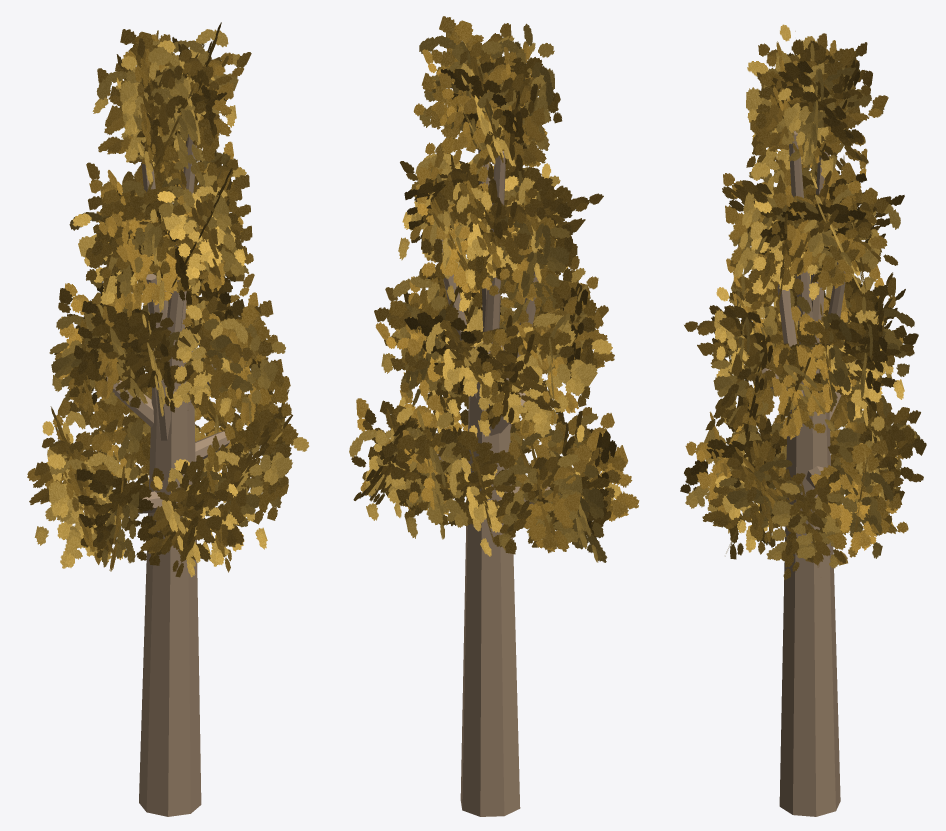
Rendered from Cypress_Yellow.glb.
3 views of the same model, side by side, from view 1: azimuth 30°, elevation 25°; view 2: azimuth 150°, elevation 25°; view 3: azimuth 270°, elevation 25° (orthographic).
Parts seen in each view (by area): view 1: Trunk, FoliageCard_17_00, FoliageCard_06_03, FoliageCard_05_00, FoliageCard_26_00, FoliageCard_17_02, FoliageCard_15_03, FoliageCard_07_03, FoliageCard_32_00, FoliageCard_26_03, FoliageCard_24_00, FoliageCard_18_00 (+63 smaller); view 2: Trunk, FoliageCard_04_00, FoliageCard_03_00, FoliageCard_14_00, FoliageCard_04_01, FoliageCard_21_00, FoliageCard_02_00, FoliageCard_13_01, FoliageCard_02_01, FoliageCard_06_01, FoliageCard_21_01, FoliageCard_12_02 (+61 smaller); view 3: Trunk, FoliageCard_01_02, FoliageCard_00_02, FoliageCard_20_02, FoliageCard_10_03, FoliageCard_01_03, FoliageCard_20_01, FoliageCard_10_02, FoliageCard_27_02, FoliageCard_01_01, FoliageCard_10_01, FoliageCard_35_01 (+68 smaller).
Boxes of the visible parts, left/top/right/bottom form: Trunk: left=139, top=351, right=201, bottom=816; FoliageCard_17_00: left=168, top=305, right=248, bottom=416; FoliageCard_06_03: left=76, top=469, right=163, bottom=565; FoliageCard_05_00: left=47, top=452, right=125, bottom=568; FoliageCard_26_00: left=157, top=186, right=245, bottom=279; FoliageCard_17_02: left=181, top=296, right=252, bottom=415; FoliageCard_15_03: left=70, top=301, right=149, bottom=408; FoliageCard_07_03: left=140, top=468, right=228, bottom=561; FoliageCard_32_00: left=120, top=52, right=181, bottom=162; FoliageCard_26_03: left=166, top=172, right=244, bottom=287; FoliageCard_24_00: left=85, top=189, right=178, bottom=280; FoliageCard_18_00: left=215, top=300, right=288, bottom=440; Trunk: left=460, top=342, right=520, bottom=816; FoliageCard_04_00: left=497, top=442, right=586, bottom=551; FoliageCard_03_00: left=438, top=428, right=516, bottom=554; FoliageCard_14_00: left=494, top=312, right=612, bottom=437; FoliageCard_04_01: left=493, top=453, right=582, bottom=550; FoliageCard_21_00: left=419, top=178, right=487, bottom=307; FoliageCard_02_00: left=392, top=411, right=468, bottom=538; FoliageCard_13_01: left=464, top=326, right=547, bottom=436; FoliageCard_02_01: left=382, top=431, right=470, bottom=519; FoliageCard_06_01: left=534, top=413, right=639, bottom=521; FoliageCard_21_01: left=416, top=182, right=492, bottom=293; FoliageCard_12_02: left=425, top=296, right=493, bottom=416; Trunk: left=779, top=369, right=840, bottom=816; FoliageCard_01_02: left=819, top=440, right=908, bottom=565; FoliageCard_00_02: left=766, top=482, right=857, bottom=568; FoliageCard_20_02: left=772, top=162, right=887, bottom=290; FoliageCard_10_03: left=791, top=292, right=856, bottom=415; FoliageCard_01_03: left=810, top=443, right=897, bottom=552; FoliageCard_20_01: left=792, top=183, right=888, bottom=283; FoliageCard_10_02: left=773, top=321, right=883, bottom=398; FoliageCard_27_02: left=750, top=200, right=819, bottom=300; FoliageCard_01_01: left=834, top=446, right=893, bottom=558; FoliageCard_10_01: left=796, top=296, right=855, bottom=421; FoliageCard_35_01: left=770, top=61, right=861, bottom=160.
Bounding box in the file's own units: 3.1 × 9.21 × 2.77.
Materials: 5 (3 with a texture image).
